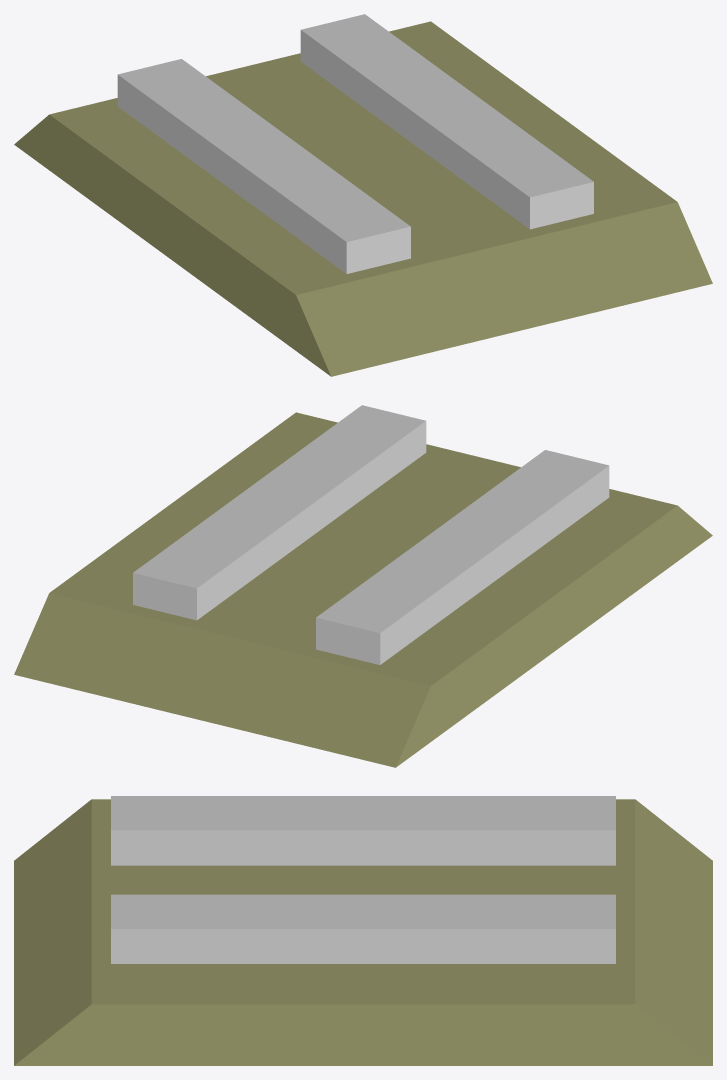
The model's file is SM_Via_Recta2_v3_Obra_LOD1.fbx.
3 renders of one model, top to bottom at view 1: azimuth 30°, elevation 25°; view 2: azimuth 150°, elevation 25°; view 3: azimuth 270°, elevation 25°, orthographic. The views are drawn at different scales.
Visible parts, largest first — view 1: SM_via_trazado_v8_LOD1; view 2: SM_via_trazado_v8_LOD1; view 3: SM_via_trazado_v8_LOD1.
Boxes of the visible parts, <box> form: SM_via_trazado_v8_LOD1: <box>14,14,712,376</box>; SM_via_trazado_v8_LOD1: <box>14,405,712,767</box>; SM_via_trazado_v8_LOD1: <box>14,796,712,1065</box>.
Size of the model in its own units: 2.5 by 0.55 by 3.6.
